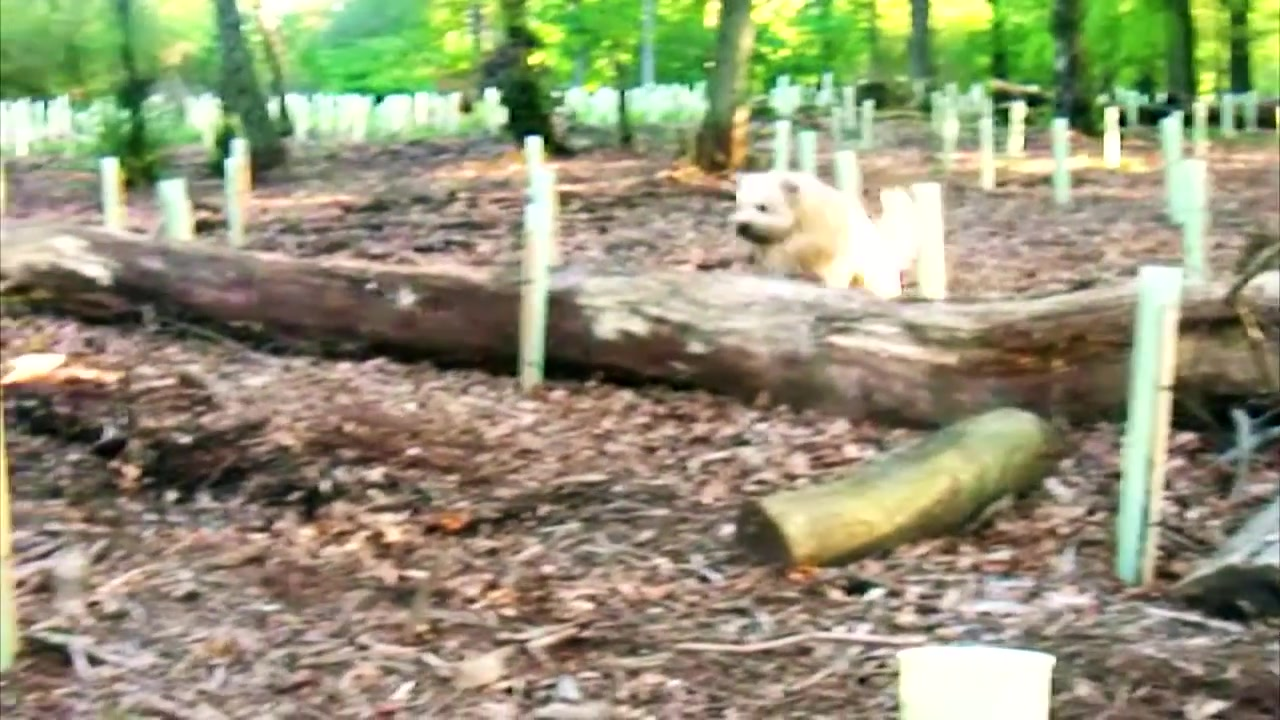dog: (734, 172, 924, 299)
